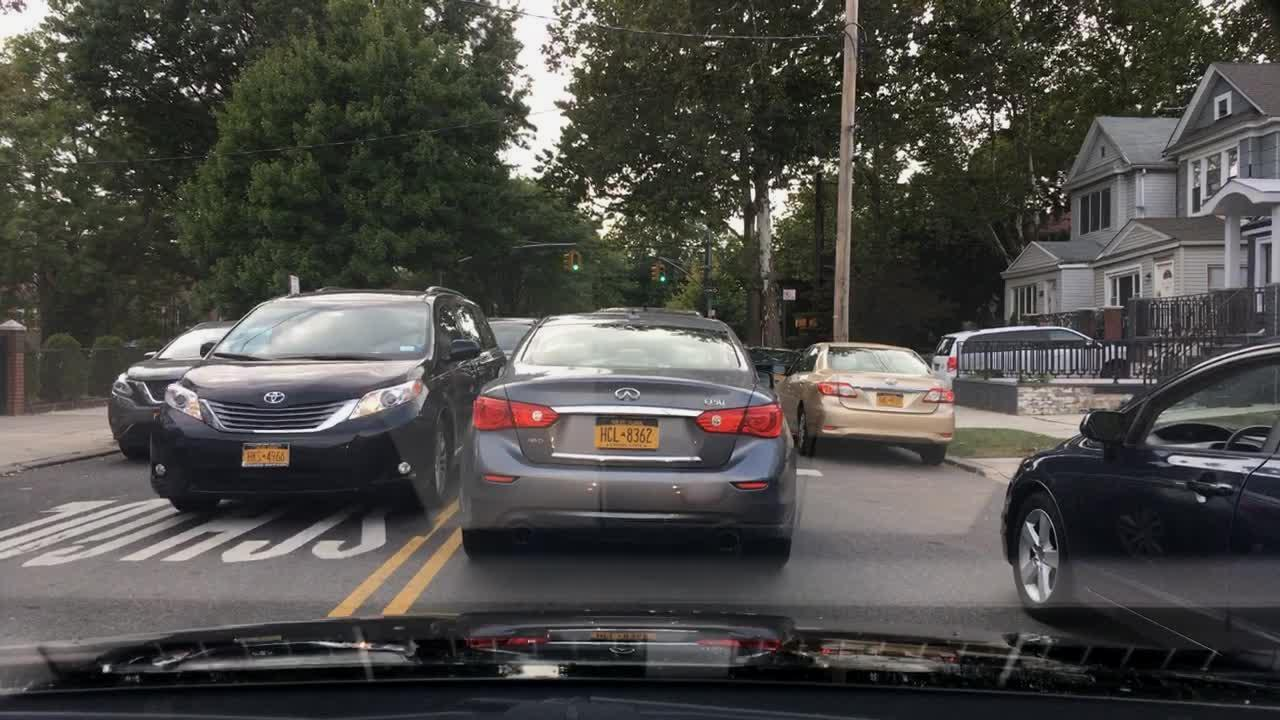Infiniti: (612, 381, 645, 408)
Toyota: (259, 386, 293, 410)
